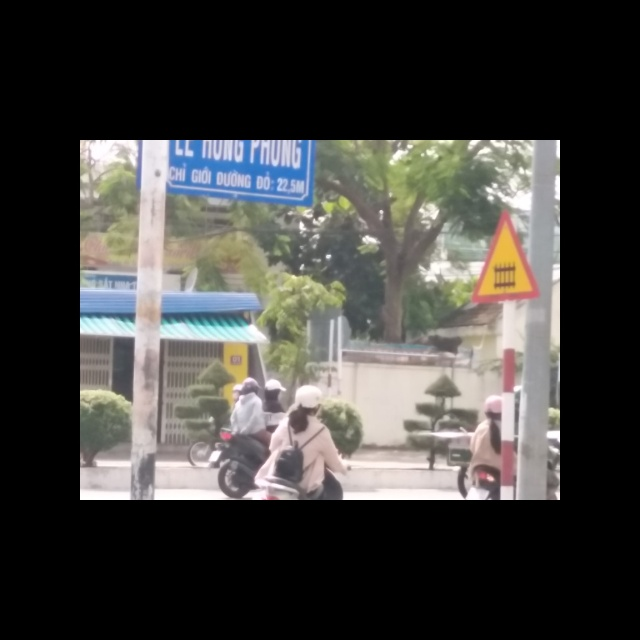Giao nhau với đường sắt có rào chắn: (469, 206, 542, 303)
